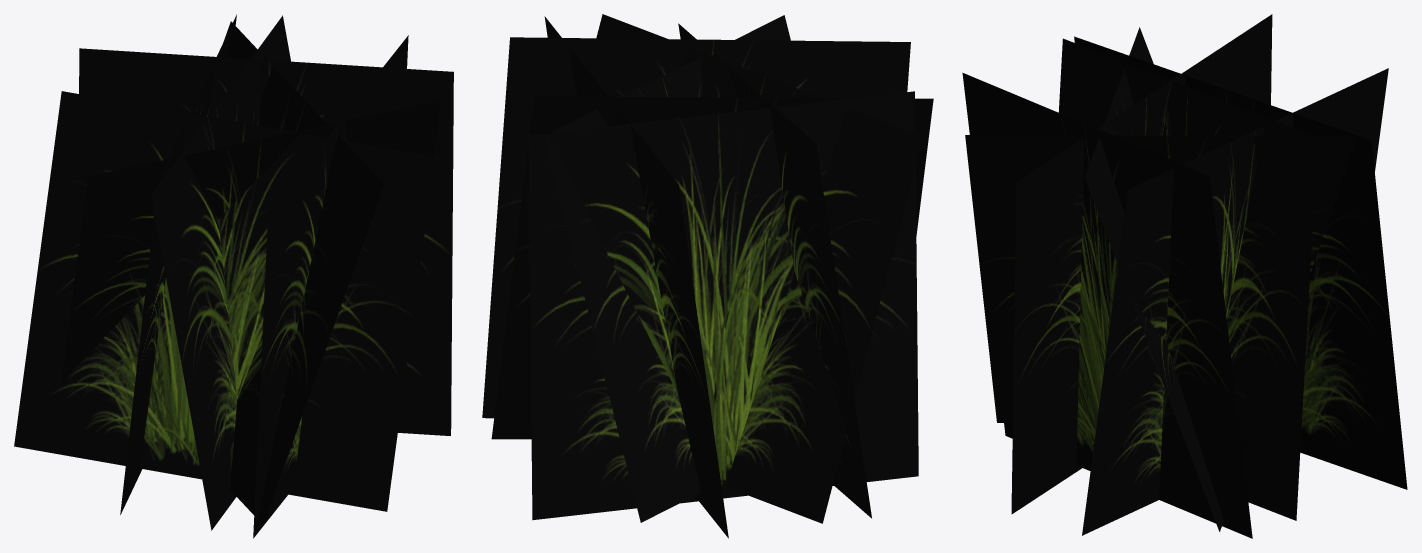
Rendered from Bush.fbx.
3 views of the same model, side by side, from view 1: azimuth 30°, elevation 25°; view 2: azimuth 150°, elevation 25°; view 3: azimuth 270°, elevation 25° (orthographic). The views are drawn at different scales.
Visible parts, largest first — view 1: Plane.005; view 2: Plane.005; view 3: Plane.005.
Part boxes in pixels (left/top/right/bottom): Plane.005: left=14, top=14, right=453, bottom=538; Plane.005: left=482, top=14, right=933, bottom=538; Plane.005: left=962, top=14, right=1407, bottom=538.
Size of the model in its own units: 204 by 198 by 200.
